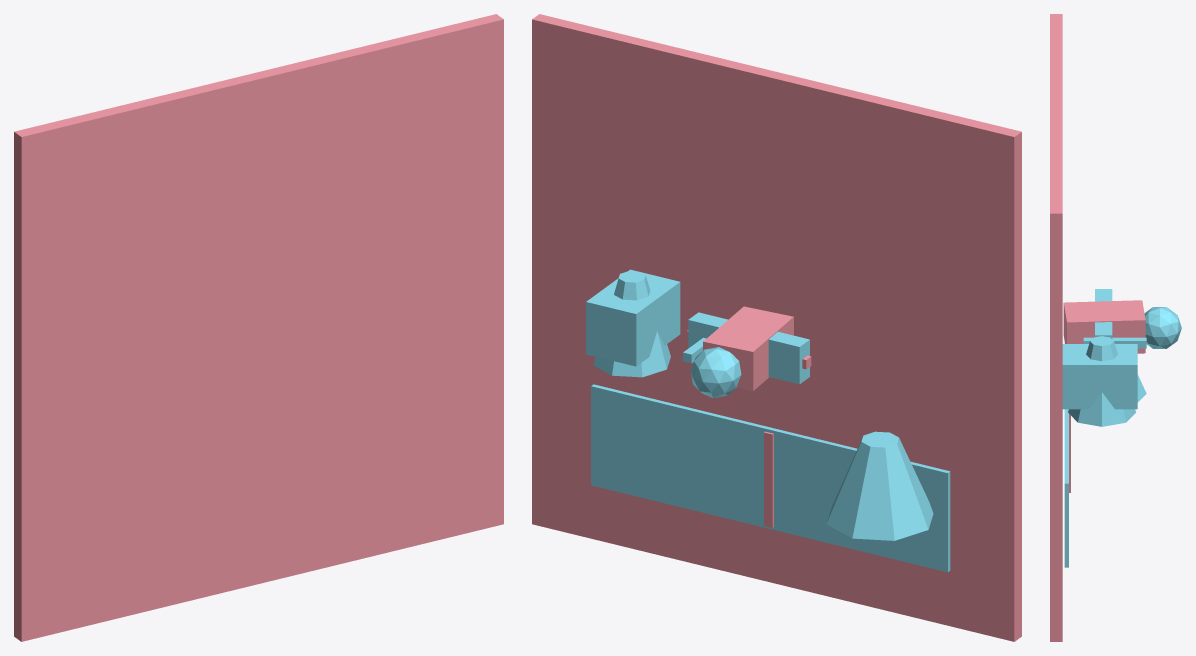
Rendered from sky-aces-kit.glb.
The picture shows the model from 3 angles, left to right: view 1: azimuth 30°, elevation 25°; view 2: azimuth 150°, elevation 25°; view 3: azimuth 270°, elevation 25°; orthographic projection. The views are drawn at different scales.
Visible parts, largest first — view 1: ENVIRONMENT_GROUND; view 2: ENVIRONMENT_GROUND, PROFILE_ENVIRONMENT_DETAIL, ENVIRONMENT_LANDMARK, PROFILE_OBSTACLE_DETAIL, PLAYER_BODY, PROFILE_PLAYER_DETAIL, OBSTACLE, PLAYER_HEAD, PROFILE_ENVIRONMENT_MARKING; view 3: ENVIRONMENT_GROUND, PROFILE_OBSTACLE_DETAIL, PLAYER_BODY, OBSTACLE, PLAYER_HEAD, PROFILE_ENVIRONMENT_DETAIL, PROFILE_PLAYER_DETAIL, PLAYER_TOOL.
Part boxes in pixels (bbox=[...]): ENVIRONMENT_GROUND: bbox=[14, 14, 503, 641]; ENVIRONMENT_GROUND: bbox=[532, 14, 1021, 641]; PROFILE_ENVIRONMENT_DETAIL: bbox=[591, 384, 950, 572]; ENVIRONMENT_LANDMARK: bbox=[826, 431, 933, 540]; PROFILE_OBSTACLE_DETAIL: bbox=[586, 269, 680, 366]; PLAYER_BODY: bbox=[703, 306, 793, 390]; PROFILE_PLAYER_DETAIL: bbox=[688, 312, 809, 384]; OBSTACLE: bbox=[593, 271, 670, 377]; PLAYER_HEAD: bbox=[690, 347, 741, 398]; PROFILE_ENVIRONMENT_MARKING: bbox=[764, 431, 773, 527]; ENVIRONMENT_GROUND: bbox=[1050, 14, 1062, 641]; PROFILE_OBSTACLE_DETAIL: bbox=[1062, 344, 1137, 409]; PLAYER_BODY: bbox=[1063, 300, 1145, 353]; OBSTACLE: bbox=[1068, 336, 1135, 426]; PLAYER_HEAD: bbox=[1144, 307, 1181, 348]; PROFILE_ENVIRONMENT_DETAIL: bbox=[1064, 342, 1068, 567]; PROFILE_PLAYER_DETAIL: bbox=[1095, 289, 1112, 338]; PLAYER_TOOL: bbox=[1083, 337, 1146, 348].
Size of what is drawn, in the model's own units: 9 by 9 by 2.51.
